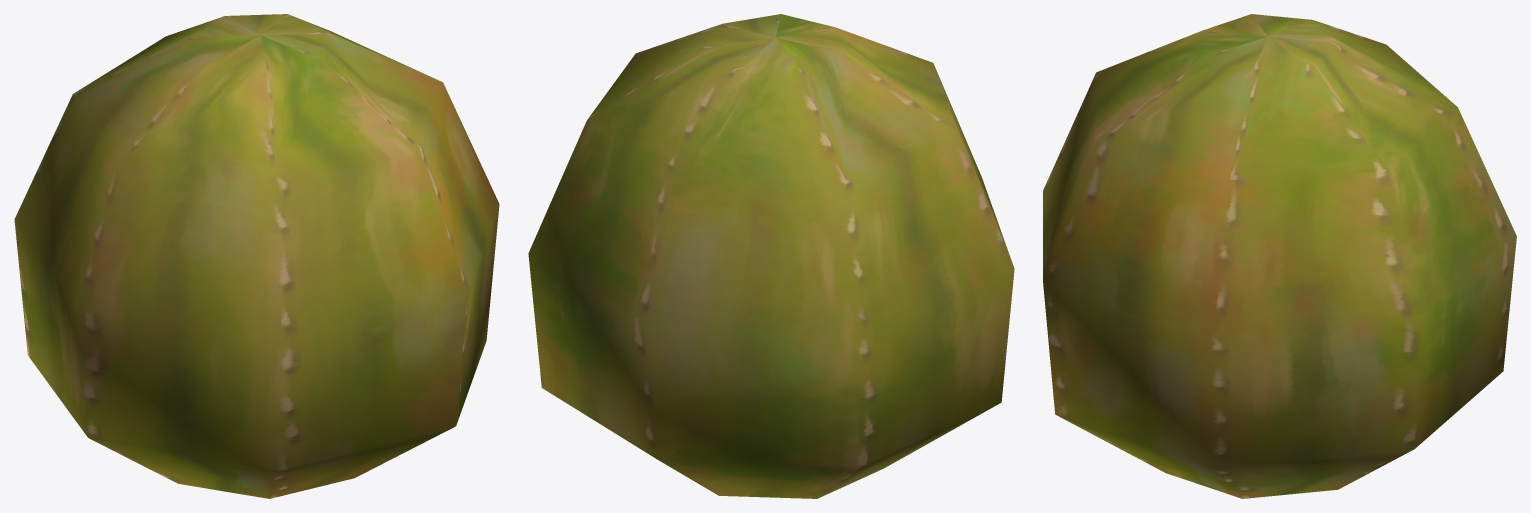
The model's file is P_CactusBulb01.obj.
3 views of the same model, side by side, from view 1: azimuth 30°, elevation 25°; view 2: azimuth 150°, elevation 25°; view 3: azimuth 270°, elevation 25° (orthographic).
Size of the model in its own units: 0.6574 by 0.6361 by 0.641.
